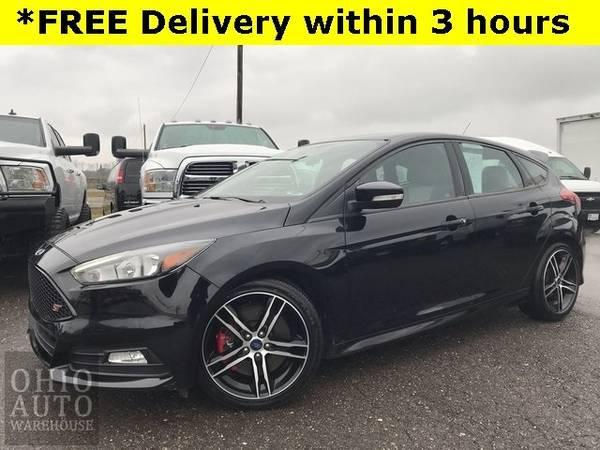Front_Bumper: (27, 244, 219, 394)
Front_Fender: (186, 189, 355, 358)
Front_Left_Door: (342, 196, 476, 346)
Front_Left_Window: (344, 143, 466, 222)
Front_Windshield: (198, 134, 389, 200)
Grille: (27, 266, 74, 330)
Hood: (46, 198, 290, 264)
Left_Headlight: (72, 237, 217, 285)
Left_Taillight: (558, 188, 581, 210)
Rear_Fender: (516, 157, 587, 254)
Rear_Left_Door: (469, 186, 555, 310)
Rear_Left_Window: (450, 143, 538, 200)
Roof: (296, 134, 564, 214)
Wheel: (199, 282, 325, 415), (535, 244, 584, 320)
